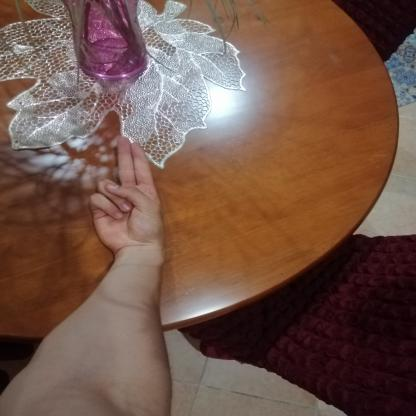TA: (76, 132, 181, 258)
